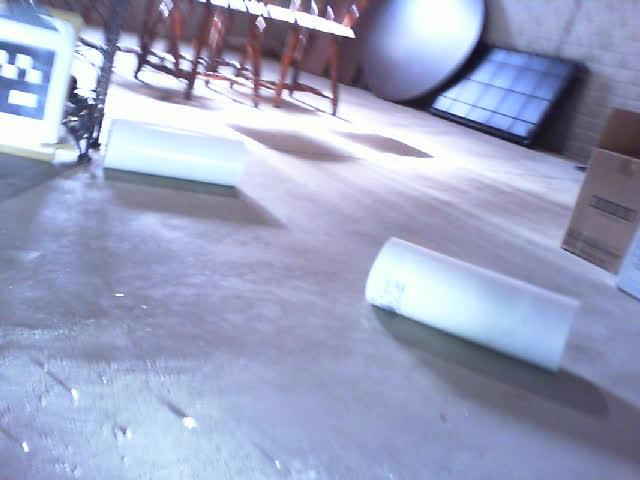coral: (366, 237, 581, 374), (102, 117, 245, 187)
